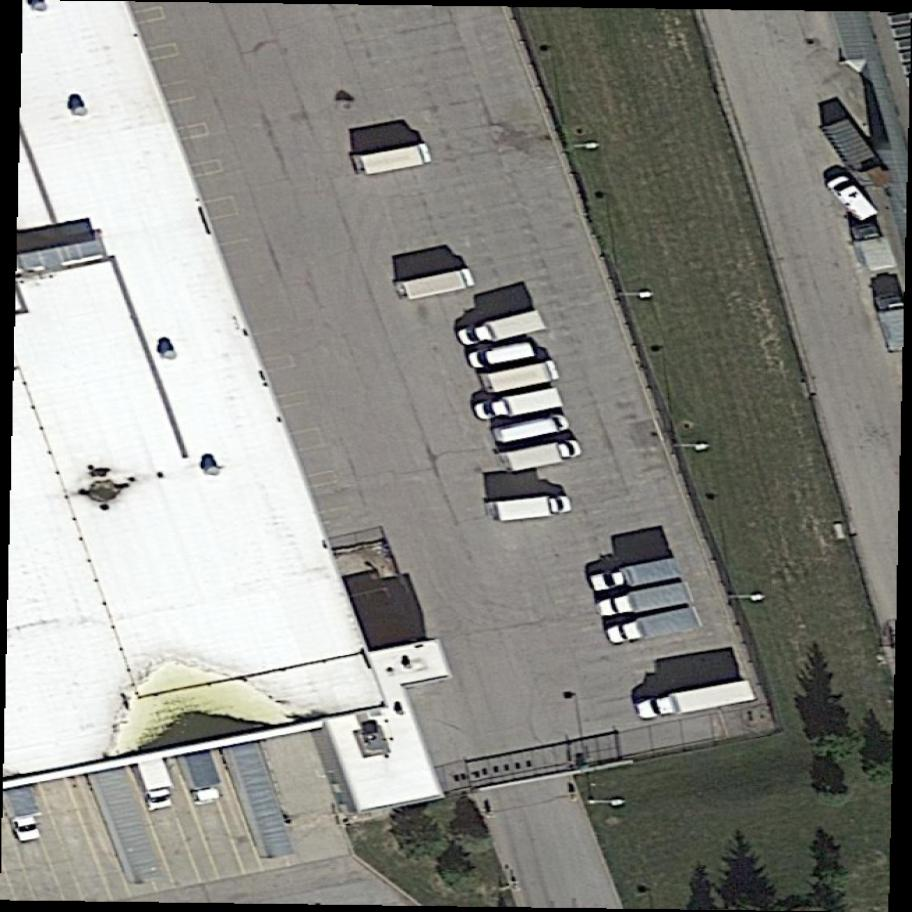large-vehicle: (636, 679, 757, 723), (170, 720, 226, 811), (608, 606, 703, 649), (455, 308, 547, 351), (598, 582, 694, 623), (591, 557, 685, 596), (476, 387, 565, 425), (481, 358, 562, 398), (4, 772, 46, 846), (396, 266, 477, 304), (503, 437, 583, 475), (353, 141, 434, 178), (135, 744, 177, 814), (848, 216, 894, 277), (491, 493, 573, 524)
small-vehicle: (820, 165, 884, 232), (489, 412, 573, 448), (467, 341, 538, 371)
